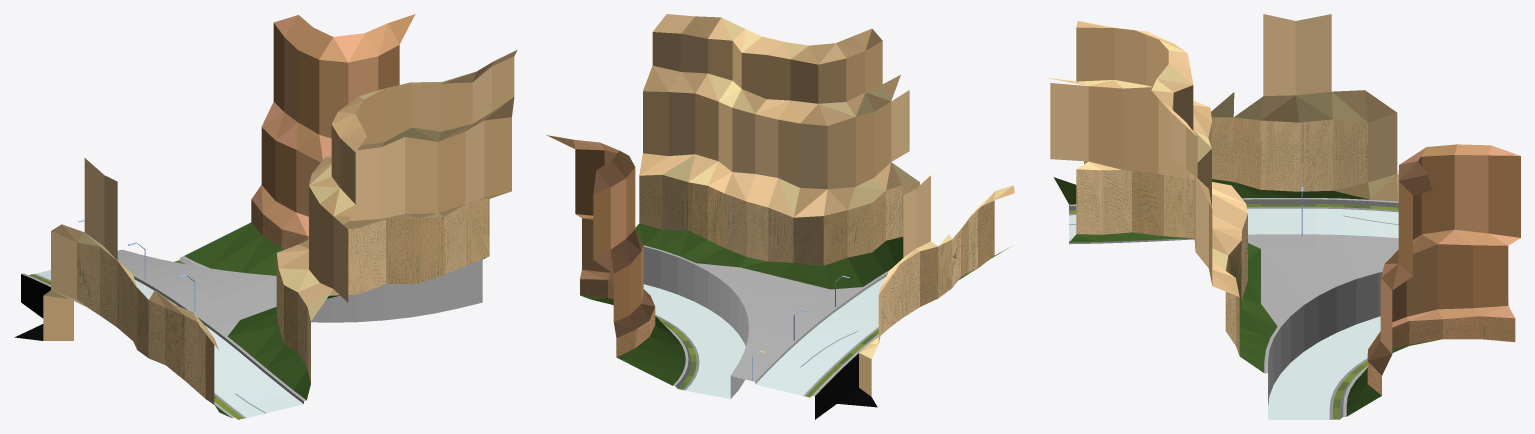
3 views of the same model, side by side, from view 1: azimuth 30°, elevation 25°; view 2: azimuth 150°, elevation 25°; view 3: azimuth 270°, elevation 25° (orthographic). The views are drawn at different scales.
Parts seen in each view (by area): view 1: O3480B; view 2: O3480B; view 3: O3480B.
Part boxes in pixels (<box>): O3480B: <box>14,14,517,419</box>; O3480B: <box>546,14,1014,419</box>; O3480B: <box>1044,14,1520,419</box>.
Size of the model in its own units: 140 by 96 by 140.
